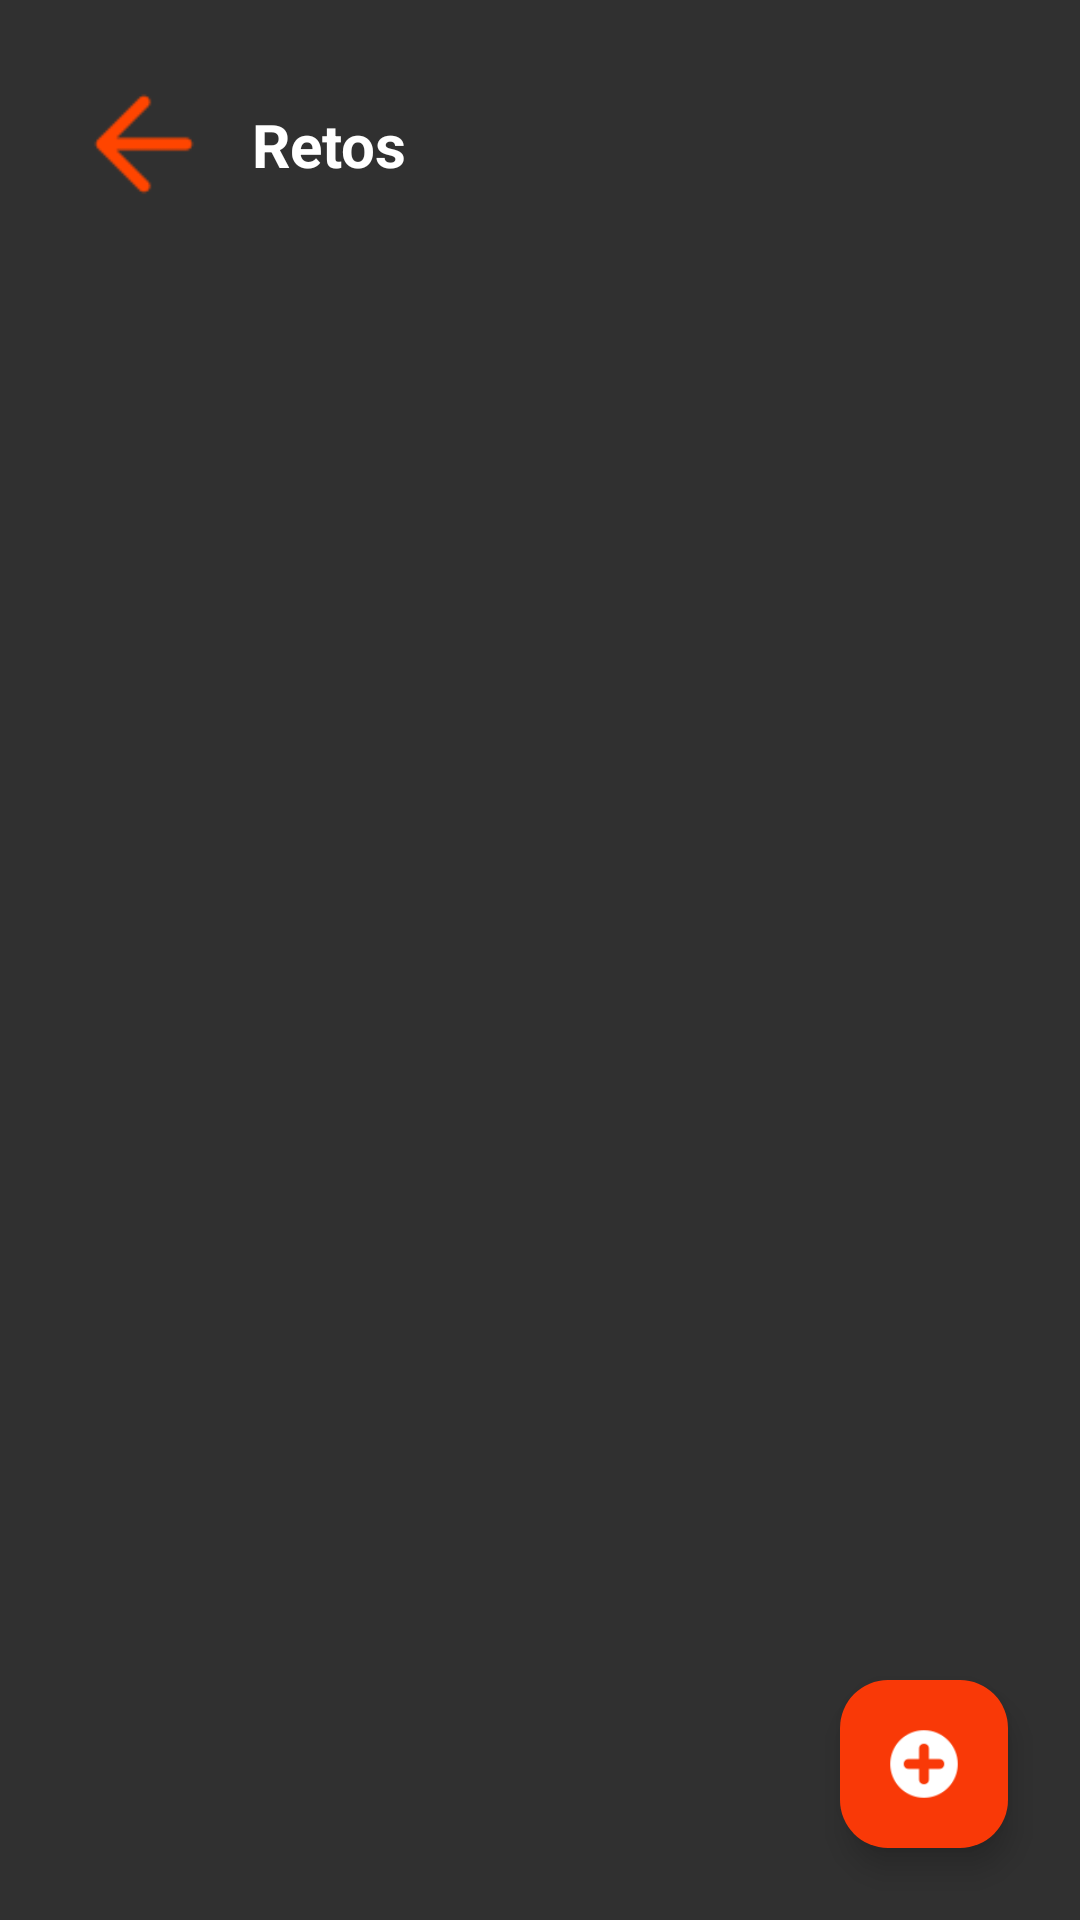

Icon click points for this 1080px×1920px phone screenshot, format [x,y]:
Agregar reto: [924,1764]
Volver: [144,144]
